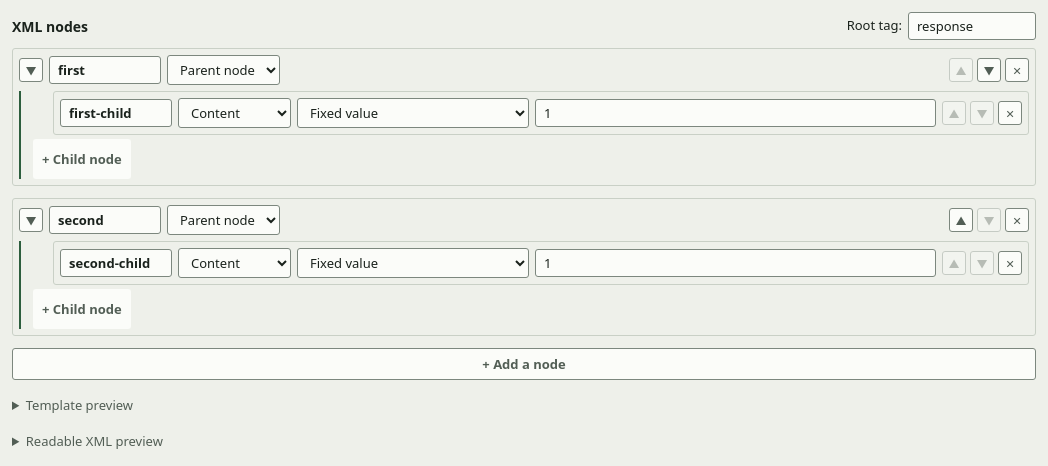
Test: XmlResponseBuilder: a fold follows its node › when the folded node moves up
The width and height of the screenshot is (1048, 466).
Click the button with test id "xml-builder-collapse-button-1": x=31, y=220 [19,208,43,232]
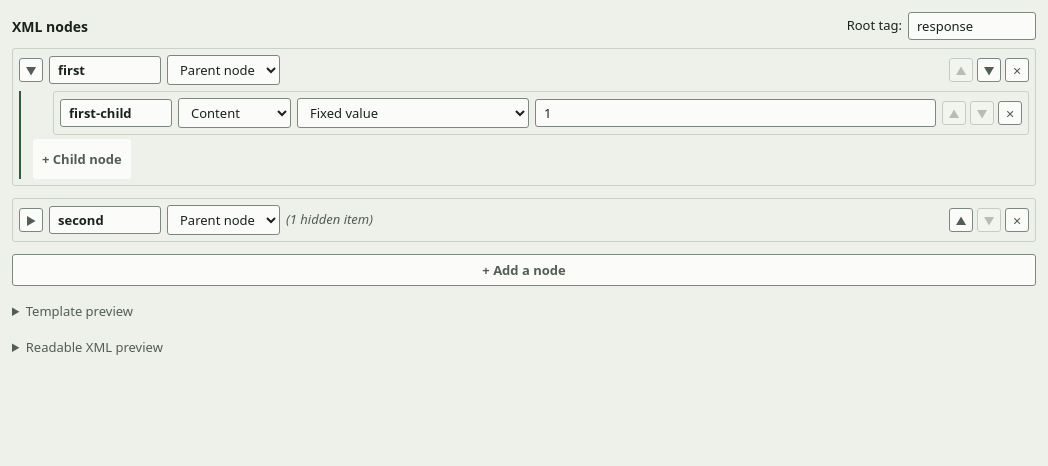
Click the button with test id "xml-builder-moveup-button-1": x=961, y=220 [949,208,973,232]
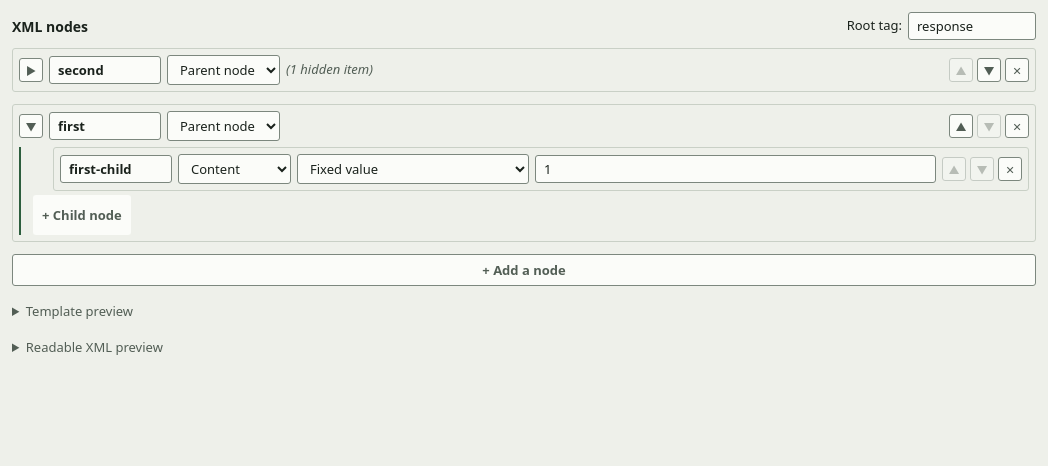
Now the field with test id "xml-builder-tag-input-0" holds "second", box [49,56,161,84]
